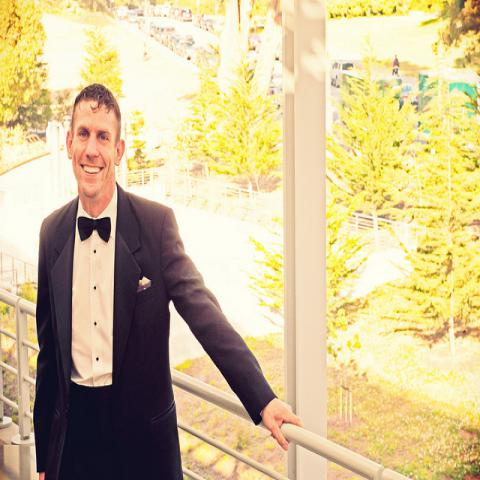car: (123, 14, 221, 84), (331, 60, 355, 88), (399, 85, 418, 110), (181, 4, 192, 20)
